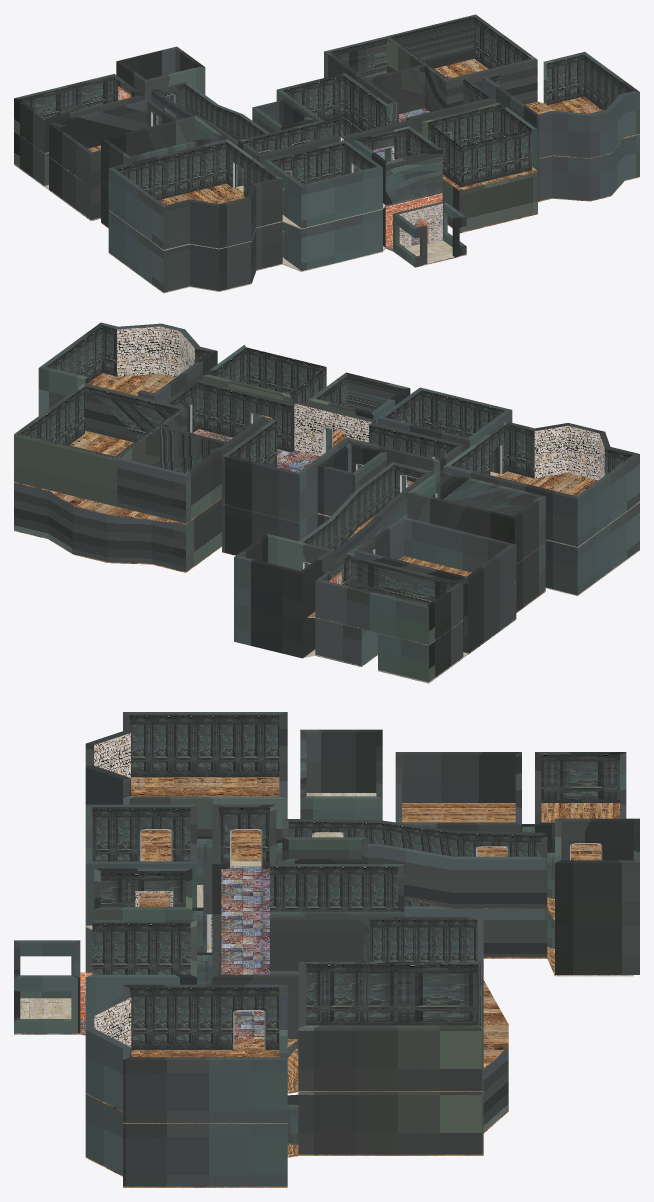
The model's file is test_layout.glb.
The picture shows the model from 3 angles, top to bottom: view 1: azimuth 30°, elevation 25°; view 2: azimuth 150°, elevation 25°; view 3: azimuth 270°, elevation 25°; orthographic projection. The views are drawn at different scales.
Parts seen in each view (by area): view 1: Walls.001, Walls, Floor.001, Floor; view 2: Walls.001, Walls, Floor.001, Floor; view 3: Walls.001, Walls, Floor.001, Floor.
Boxes of the visible parts, x1,y1,x2,y2 form: Walls.001: [14, 14, 639, 249]; Walls: [14, 95, 639, 292]; Floor.001: [19, 58, 639, 250]; Floor: [14, 164, 639, 293]; Walls.001: [14, 322, 639, 645]; Walls: [14, 482, 639, 683]; Floor.001: [14, 372, 639, 645]; Floor: [14, 530, 639, 682]; Walls.001: [85, 712, 639, 1123]; Walls: [14, 824, 639, 1186]; Floor.001: [85, 777, 619, 1123]; Floor: [14, 947, 633, 1187].
Size of the model in its own units: 54.9 by 9.62 by 41.73.
Materials: 6 (6 with a texture image).
